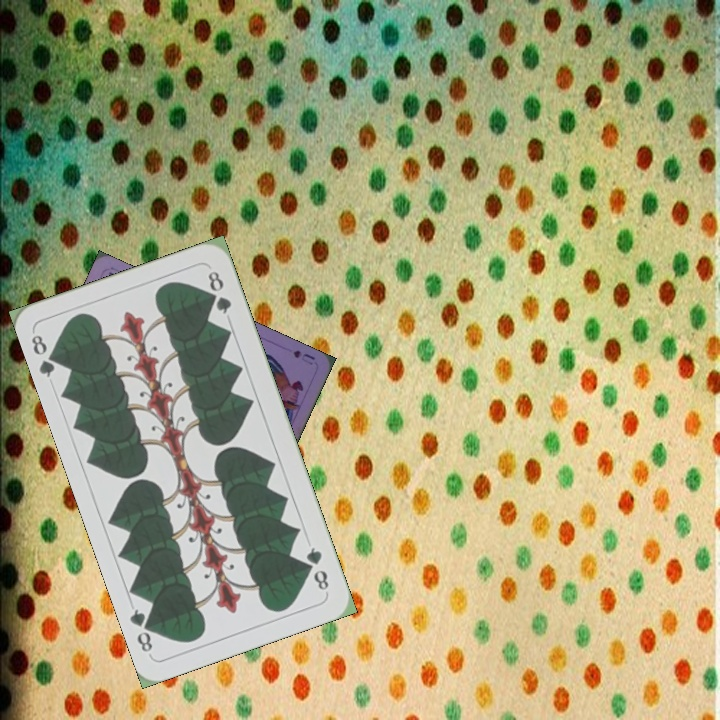G8: (27, 330, 63, 380), (302, 543, 332, 593)
SU: (289, 346, 318, 368)
